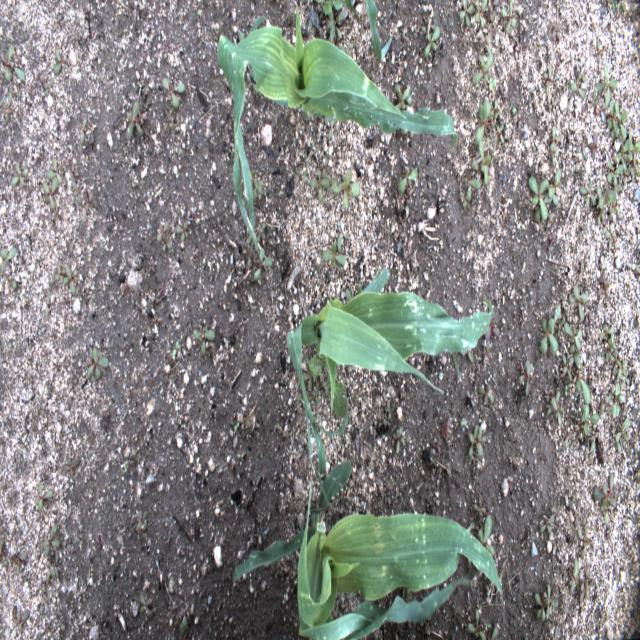crop: (215, 3, 458, 228), (230, 461, 505, 638), (285, 262, 494, 486), (364, 3, 394, 67), (333, 594, 364, 614)
weed: (515, 164, 564, 234), (391, 156, 424, 248), (578, 179, 618, 251), (597, 314, 630, 382), (333, 160, 371, 218), (588, 471, 625, 524), (555, 293, 585, 355), (569, 247, 592, 327), (473, 96, 510, 145), (590, 67, 624, 120), (243, 224, 271, 287), (466, 128, 494, 188), (318, 0, 358, 41), (474, 0, 518, 37), (512, 342, 542, 396), (86, 334, 117, 386), (532, 577, 563, 628), (537, 298, 561, 362), (38, 158, 64, 217), (1, 38, 31, 88), (471, 44, 500, 95), (300, 151, 332, 197), (458, 418, 487, 467), (122, 91, 148, 145), (41, 520, 62, 585), (0, 240, 22, 297), (32, 576, 58, 624), (538, 64, 562, 116), (466, 604, 505, 636), (318, 242, 348, 281), (191, 322, 218, 365), (160, 71, 188, 112), (564, 70, 588, 116), (611, 414, 635, 458), (547, 120, 572, 162), (476, 367, 500, 410), (3, 157, 33, 191), (572, 356, 594, 402), (154, 213, 172, 269), (576, 504, 594, 560), (574, 407, 602, 443), (576, 130, 602, 168), (34, 475, 58, 516), (543, 385, 567, 426), (162, 331, 187, 368), (418, 17, 441, 57), (54, 262, 76, 303), (176, 208, 193, 256), (452, 1, 476, 35), (600, 2, 629, 30), (459, 172, 484, 204), (370, 406, 395, 438), (5, 600, 29, 632), (598, 266, 614, 314), (390, 417, 408, 457), (608, 386, 632, 416), (590, 33, 611, 65), (10, 548, 28, 585), (73, 108, 90, 147), (539, 503, 557, 538), (1, 89, 17, 127), (176, 599, 195, 631), (511, 104, 527, 142), (38, 285, 56, 318), (272, 416, 290, 449), (567, 558, 583, 595), (394, 84, 412, 116), (0, 531, 12, 578), (229, 414, 250, 440), (616, 139, 630, 177), (135, 507, 155, 533), (599, 389, 615, 420), (47, 10, 67, 34), (116, 453, 132, 482), (460, 388, 477, 414), (578, 581, 598, 603), (41, 74, 56, 103), (52, 46, 66, 76), (65, 366, 79, 396), (335, 217, 348, 249), (139, 592, 154, 618), (616, 106, 628, 138), (608, 160, 622, 186), (570, 503, 583, 530), (608, 100, 617, 134), (563, 354, 573, 382), (304, 363, 315, 388), (72, 180, 82, 205), (586, 442, 594, 472), (624, 166, 639, 182), (85, 194, 98, 212), (628, 140, 638, 162), (322, 379, 330, 394)
